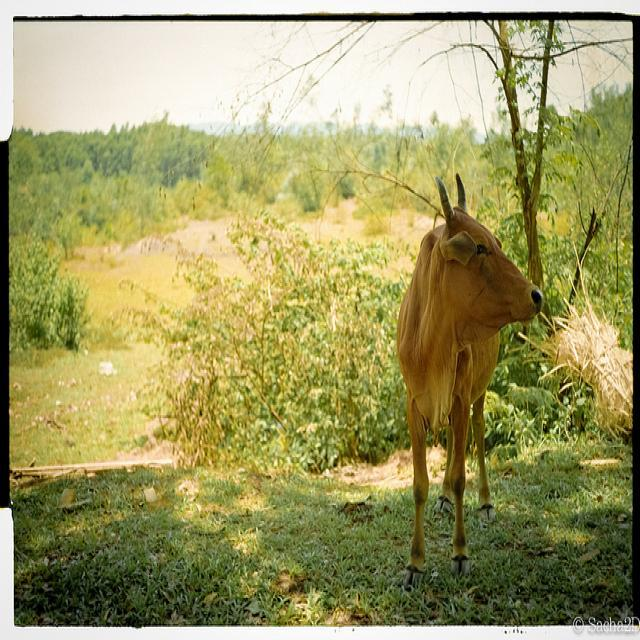cow: (395, 170, 543, 578)
